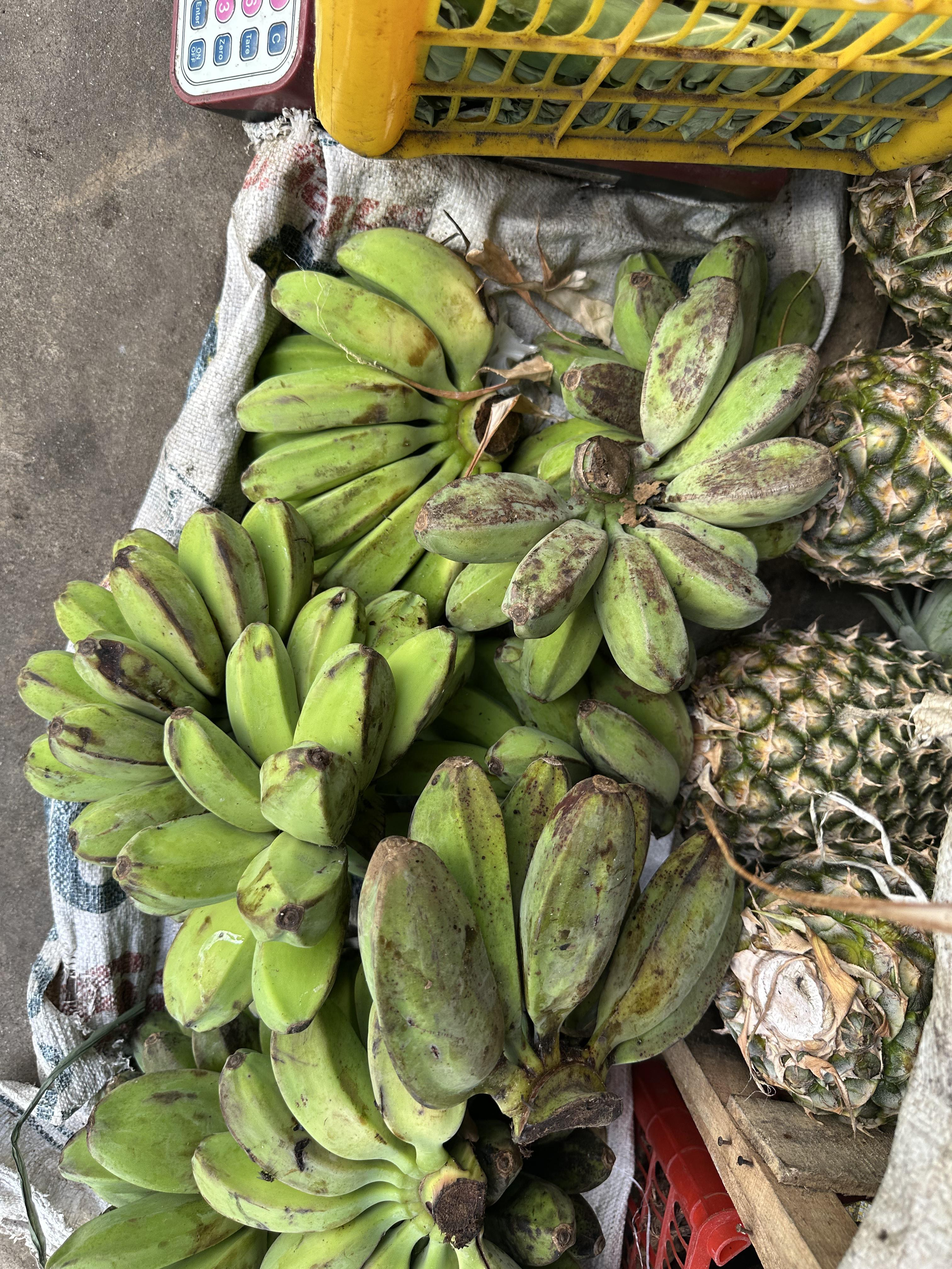underripe: (414, 276, 838, 703), (113, 587, 474, 1033), (357, 754, 748, 1108), (18, 497, 313, 864), (235, 228, 496, 628), (503, 236, 811, 504), (191, 996, 468, 1269), (46, 1068, 267, 1269), (485, 640, 693, 806)
